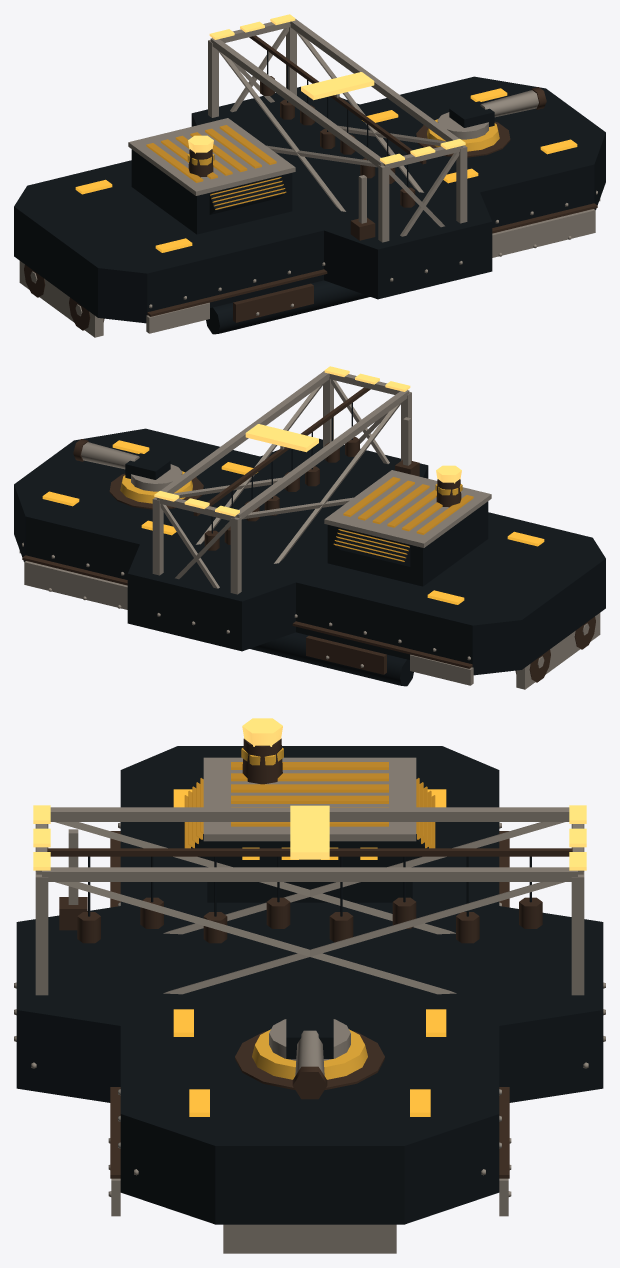
File: derrick-bathyarch.glb
The picture shows the model from 3 angles, top to bottom: view 1: azimuth 30°, elevation 25°; view 2: azimuth 150°, elevation 25°; view 3: azimuth 270°, elevation 25°; orthographic projection. The views are drawn at different scales.
Parts seen in each view (by area): view 1: hull_slab, machinery_house, house_roof, flank_plate_s0, ballast_s, frame_cross_aft, frame_cross_fwd, flank_plate_s1, louvre_well_s, cradle_lamp, cradle_rail, transom_plate (+25 smaller); view 2: hull_slab, machinery_house, house_roof, flank_plate_p0, ballast_p, frame_cross_aft, frame_cross_fwd, flank_plate_p1, louvre_well_p, cradle_lamp, cradle_rail, transom_plate (+24 smaller); view 3: hull_slab, house_roof, frame_cross_fwd, frame_cross_aft, machinery_house, bow_plate, cradle_rail, brace_fwd_0, brace_fwd_1, barbette_ring, cradle_lamp, brace_aft_0 (+21 smaller).
Part boxes in pixels (left/top/right/bottom): hull_slab: left=14, top=76, right=605, bottom=323; machinery_house: left=131, top=149, right=292, bottom=234; house_roof: left=128, top=118, right=295, bottom=195; flank_plate_s0: left=492, top=209, right=595, bottom=257; ballast_s: left=206, top=280, right=370, bottom=334; frame_cross_aft: left=210, top=38, right=383, bottom=167; frame_cross_fwd: left=290, top=19, right=464, bottom=145; flank_plate_s1: left=233, top=283, right=313, bottom=322; louvre_well_s: left=209, top=178, right=284, bottom=214; cradle_lamp: left=301, top=72, right=374, bottom=100; cradle_rail: left=249, top=35, right=426, bottom=164; transom_plate: left=19, top=261, right=103, bottom=337; hull_slab: left=14, top=428, right=605, bottom=675; machinery_house: left=327, top=501, right=488, bottom=586; house_roof: left=324, top=470, right=491, bottom=547; flank_plate_p0: left=24, top=561, right=127, bottom=609; ballast_p: left=249, top=632, right=413, bottom=686; frame_cross_aft: left=236, top=390, right=409, bottom=519; frame_cross_fwd: left=155, top=371, right=329, bottom=497; flank_plate_p1: left=306, top=635, right=386, bottom=674; louvre_well_p: left=335, top=530, right=410, bottom=566; cradle_lamp: left=245, top=424, right=318, bottom=452; cradle_rail: left=193, top=387, right=370, bottom=516; transom_plate: left=516, top=613, right=600, bottom=689; hull_slab: left=16, top=746, right=603, bottom=1224; house_roof: left=203, top=757, right=416, bottom=841; frame_cross_fwd: left=42, top=867, right=577, bottom=881; frame_cross_aft: left=50, top=807, right=569, bottom=821; machinery_house: left=207, top=841, right=412, bottom=902; bow_plate: left=223, top=1224, right=396, bottom=1253; cradle_rail: left=47, top=848, right=572, bottom=856; brace_fwd_0: left=55, top=882, right=456, bottom=994; brace_fwd_1: left=163, top=882, right=564, bottom=994; barbette_ring: left=252, top=1029, right=367, bottom=1079; cradle_lamp: left=290, top=805, right=329, bottom=859; brace_aft_0: left=55, top=822, right=455, bottom=934.
Size of the model in its own units: 120 by 37.2 by 75.08.
